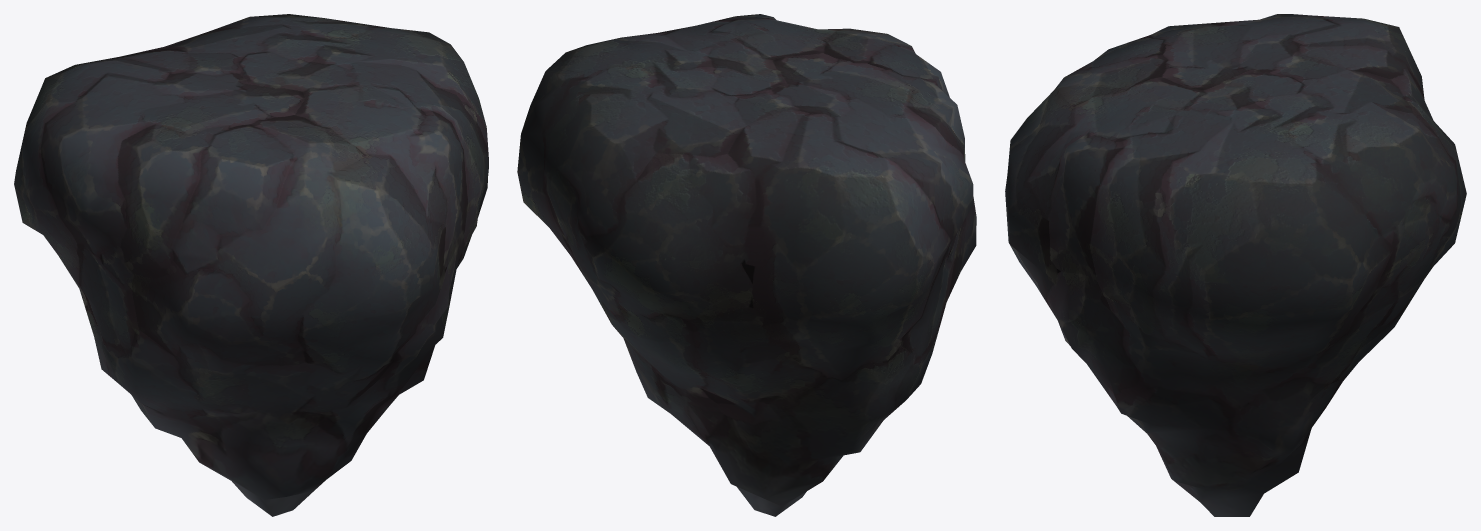
File: FloatingPlatform.fbx
3 renders of one model, left to right at view 1: azimuth 30°, elevation 25°; view 2: azimuth 150°, elevation 25°; view 3: azimuth 270°, elevation 25°, orthographic. The views are drawn at different scales.
Parts seen in each view (by area): view 1: FloatingRockPlatform; view 2: FloatingRockPlatform; view 3: FloatingRockPlatform.
Boxes of the visible parts, x1,y1,x2,y2 form: FloatingRockPlatform: (14,14,488,516); FloatingRockPlatform: (517,14,976,516); FloatingRockPlatform: (1005,14,1466,516).
Size of the model in its own units: 435 by 433 by 418.
